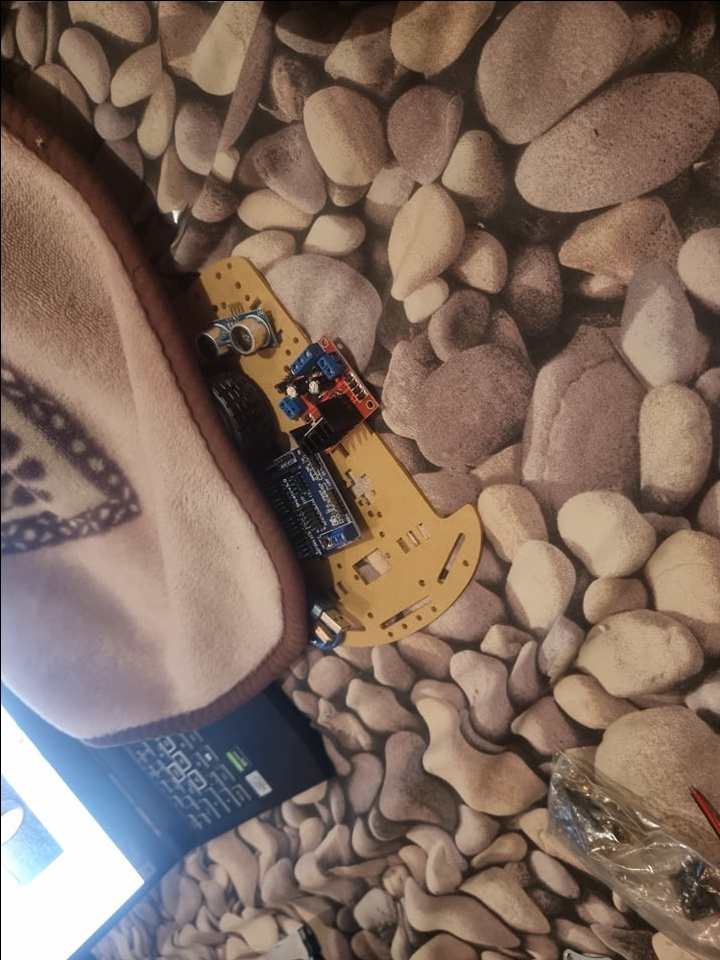5V EXPANSION: (258, 448, 363, 560)
MOTOR: (270, 329, 382, 452)
SENSOR: (187, 305, 280, 355)
